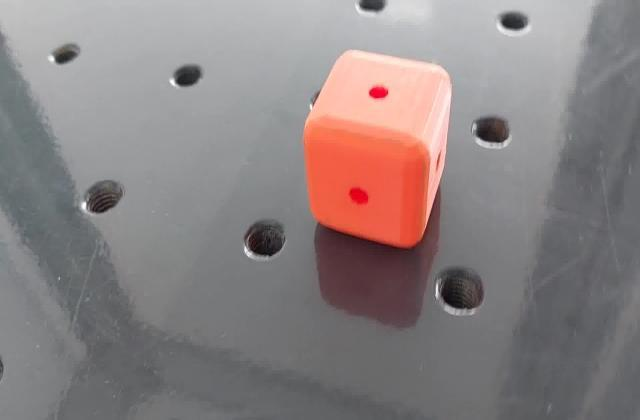cube: (300, 46, 454, 253)
